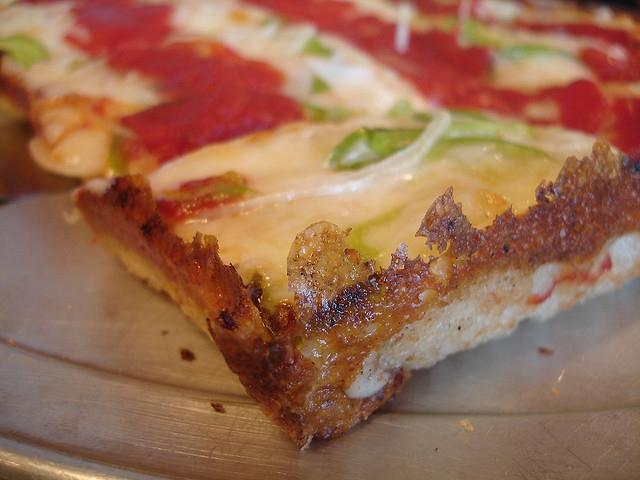onion: (199, 107, 453, 215), (489, 22, 629, 60), (27, 126, 114, 178), (306, 50, 372, 97), (396, 1, 412, 54), (105, 118, 134, 138)
tomato: (119, 88, 303, 166), (110, 41, 284, 99), (63, 0, 174, 57), (526, 79, 610, 134), (154, 193, 246, 234), (600, 96, 640, 162), (566, 26, 640, 61), (422, 47, 494, 80), (448, 86, 522, 117), (579, 46, 640, 82), (330, 15, 385, 42), (418, 0, 462, 15)
